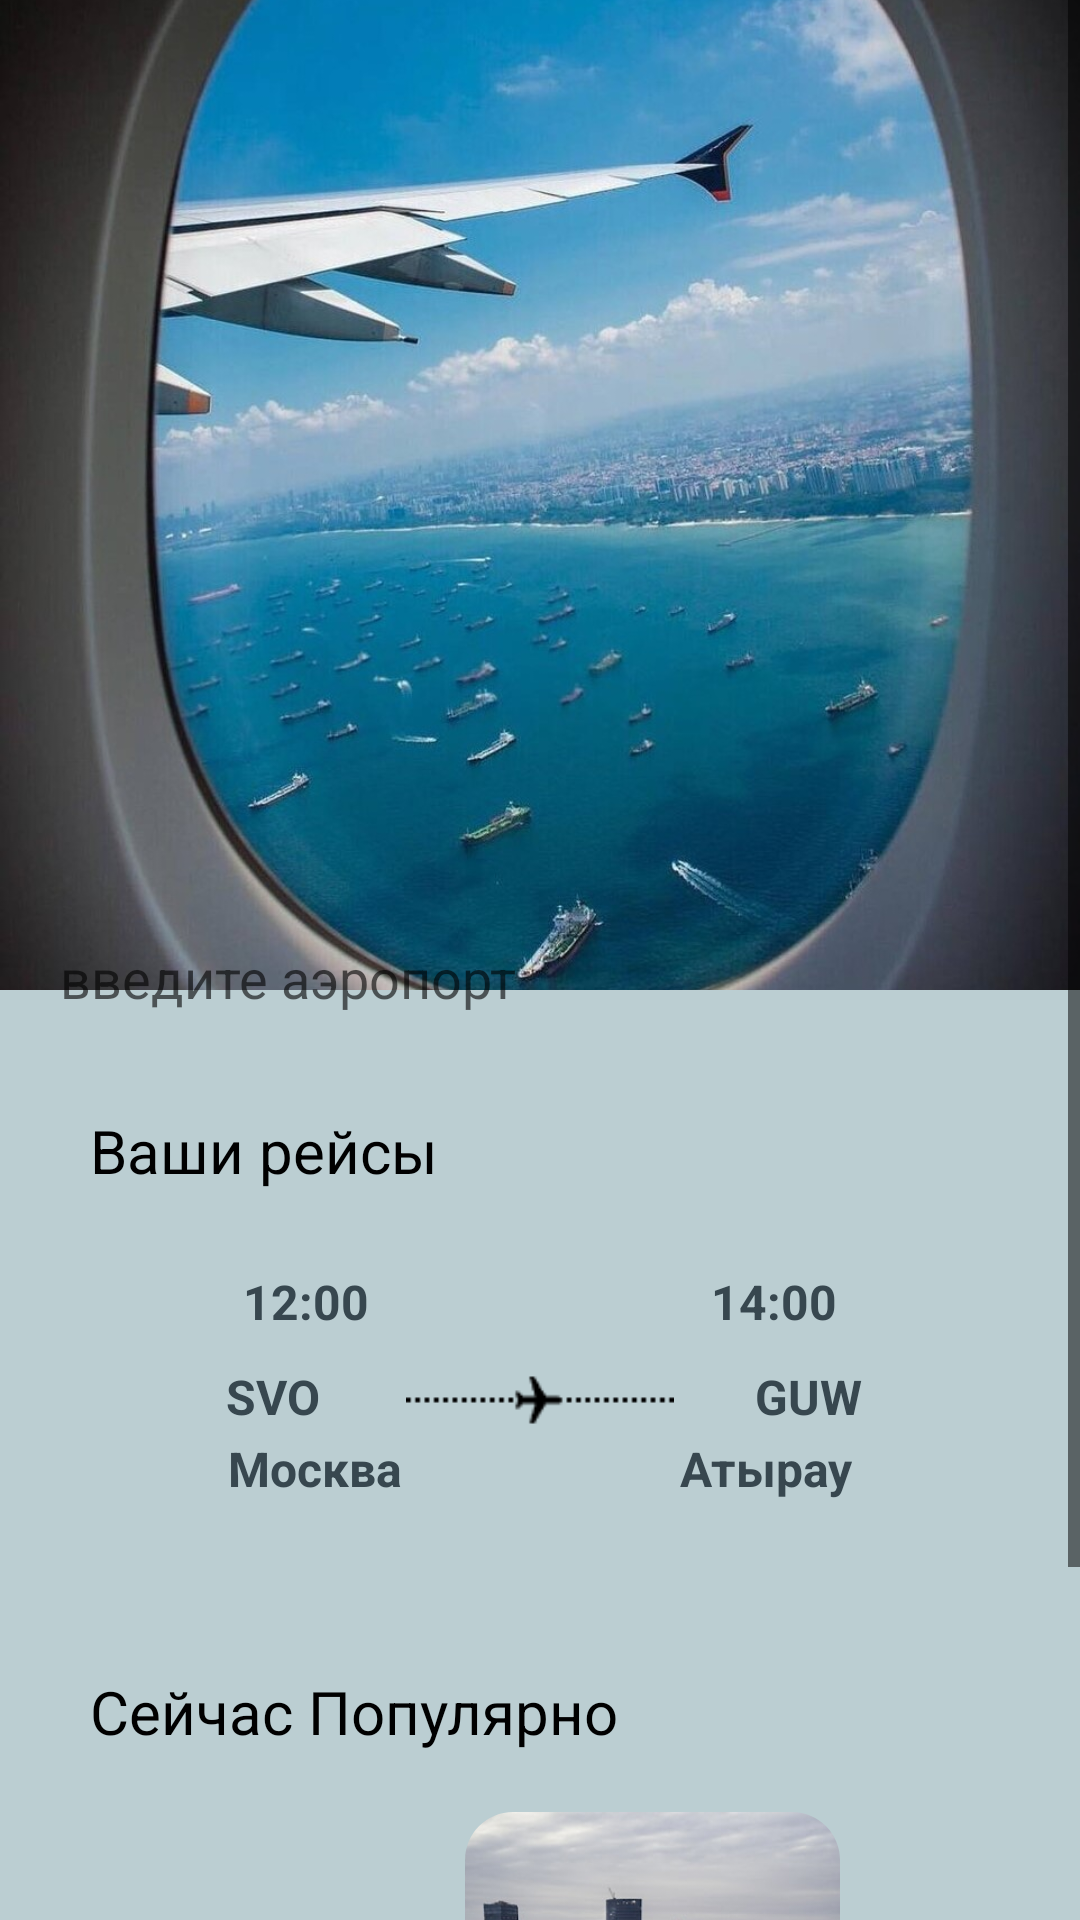

Icons on this 1080px×1920px Android screen, each with the point to tap as (x,y):
plane: (540,1400)
